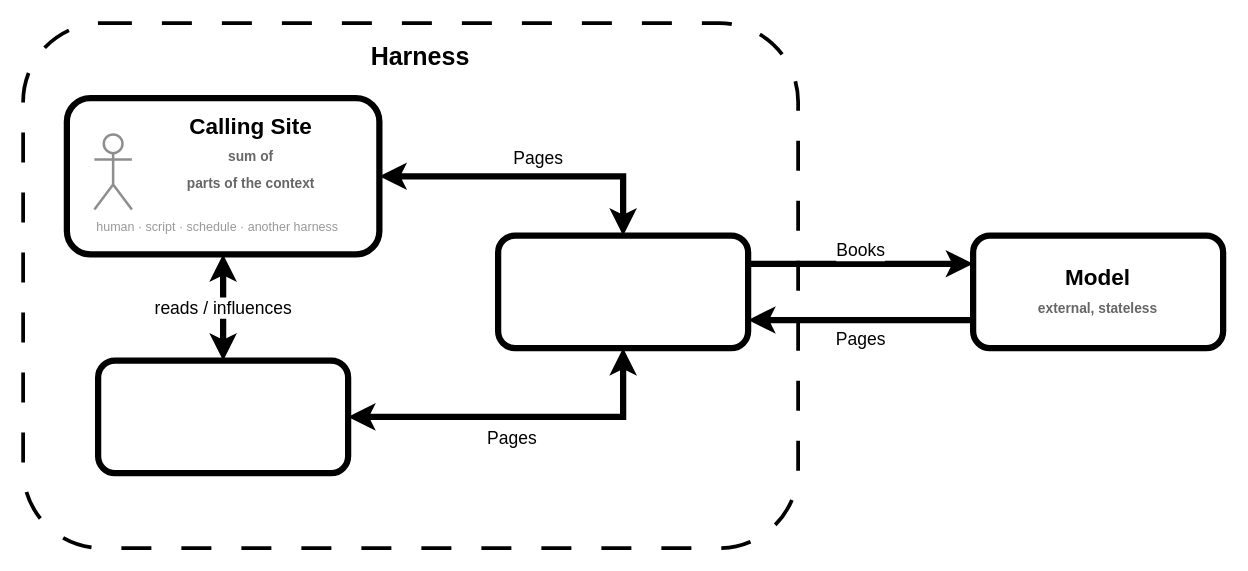
The diagram is 1248 pixels wide and 571 high, and some of its shapes have lost their labels. The shapes that lost their labels are listed below. From the top down, each one's box as (x1, y1, x2, y2) in pixels, then its label:
(494, 232, 751, 351): Book Factory binds pages into books
(94, 357, 351, 476): Actuators the bounded set of what may be done locally
